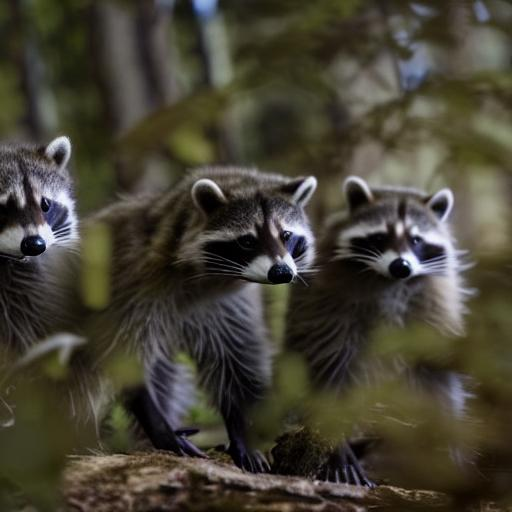raccoon: (74, 165, 324, 444), (289, 171, 476, 448), (0, 132, 79, 395)
